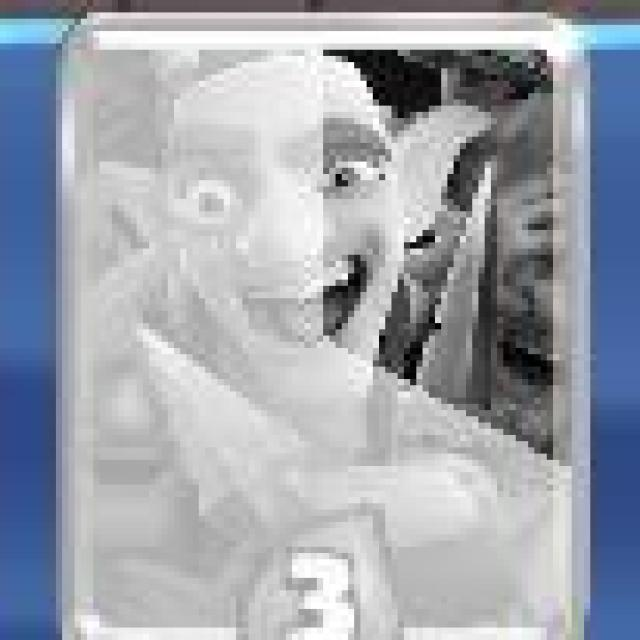Goblin_Gang: (51, 13, 586, 640)
